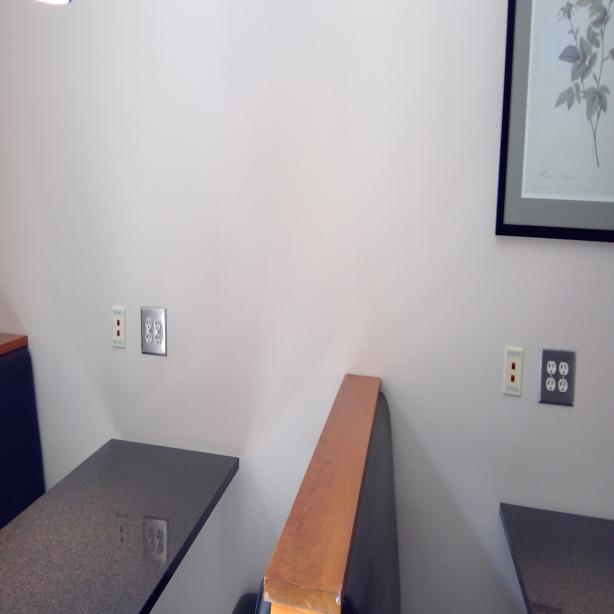typeb: (558, 358, 568, 377), (546, 359, 556, 374), (546, 377, 556, 391), (558, 379, 568, 391), (143, 317, 152, 330), (154, 318, 162, 332), (155, 334, 162, 347), (146, 334, 152, 344)
